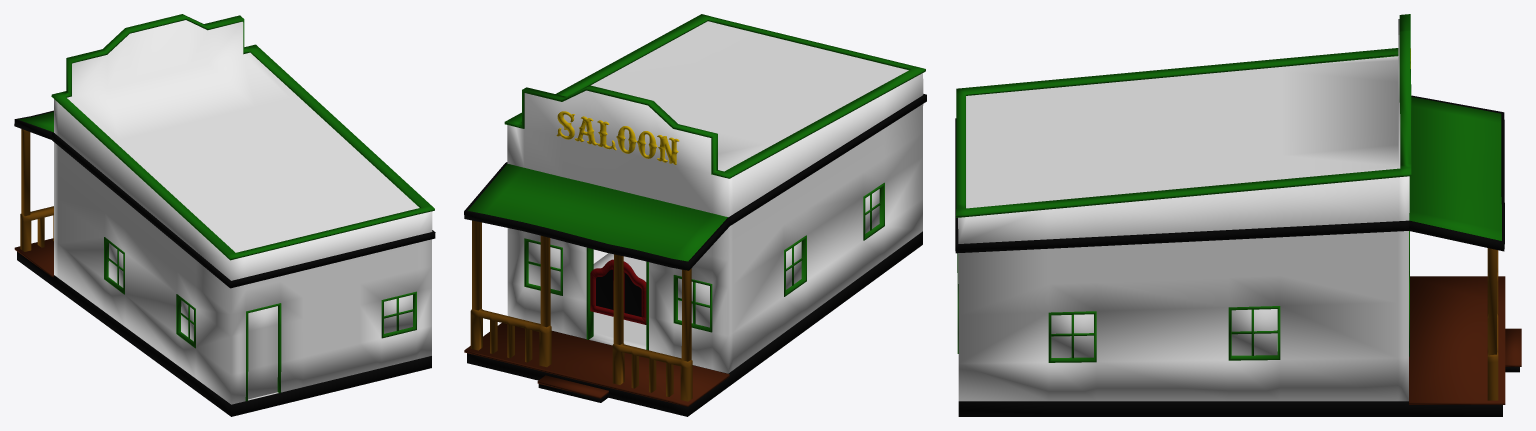
The model's file is saloon.fbx.
3 views of the same model, side by side, from view 1: azimuth 30°, elevation 25°; view 2: azimuth 150°, elevation 25°; view 3: azimuth 270°, elevation 25° (orthographic). The views are drawn at different scales.
Visible parts, largest first — view 1: saloon_default, rooftrim_default, foundation_default, midtrims_default, reardoor_default, frames_default, glass_default, porchrails_default, colums_default, porchfloor_default, aleron_default; view 2: saloon_default, aleron_default, porchfloor_default, rooftrim_default, foundation_default, midtrims_default, porchrails_default, colums_default, frames_default, glass_default, sign_default, floor_default (+2 smaller); view 3: saloon_default, porchfloor_default, aleron_default, rooftrim_default, foundation_default, midtrims_default, glass_default, frames_default, porchrails_default, colums_default.
Boxes of the visible parts, x1,y1,x2,y2 form: saloon_default: (54, 20, 432, 404); rooftrim_default: (51, 14, 434, 260); foundation_default: (17, 251, 431, 416); midtrims_default: (14, 110, 435, 288); reardoor_default: (248, 306, 277, 399); frames_default: (104, 237, 416, 401); glass_default: (108, 243, 412, 341); porchrails_default: (20, 206, 53, 251); colums_default: (21, 129, 30, 216); porchfloor_default: (14, 238, 53, 277); aleron_default: (18, 112, 53, 132); saloon_default: (507, 21, 923, 373); aleron_default: (468, 163, 727, 261); porchfloor_default: (464, 323, 729, 406); rooftrim_default: (504, 14, 925, 178); foundation_default: (467, 231, 922, 416); midtrims_default: (464, 94, 926, 270); porchrails_default: (470, 308, 692, 401); colums_default: (472, 220, 691, 361); frames_default: (524, 182, 884, 350); glass_default: (528, 189, 879, 327); sign_default: (556, 111, 679, 164); floor_default: (589, 253, 646, 349); saloon_default: (958, 19, 1409, 401); porchfloor_default: (1409, 276, 1521, 404); aleron_default: (1409, 97, 1501, 240); rooftrim_default: (955, 14, 1411, 217); foundation_default: (958, 367, 1519, 416); midtrims_default: (955, 95, 1504, 253); glass_default: (1051, 309, 1277, 357); frames_default: (957, 231, 1409, 362); porchrails_default: (1487, 248, 1498, 400); colums_default: (1488, 248, 1496, 355).
Size of the model in its own units: 3.47 by 3.9 by 6.53.
